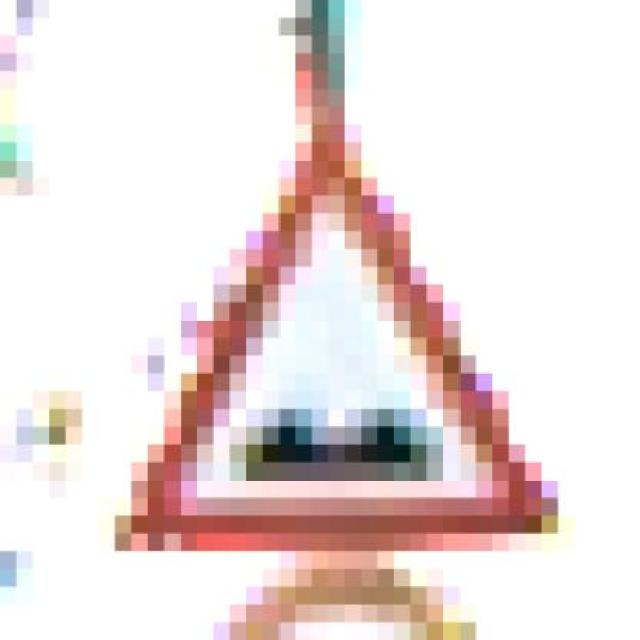Uneven Road: (115, 124, 558, 551)
